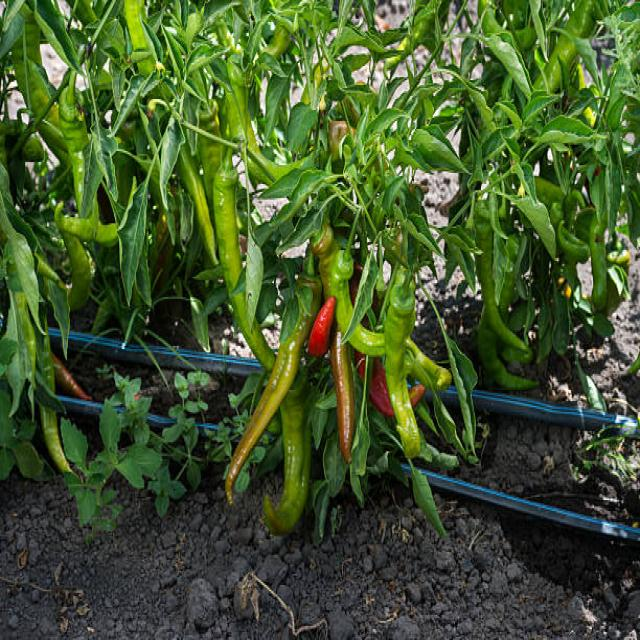Half-Ripe: (330, 329, 356, 462)
Ripe: (310, 296, 335, 354)
Unripe: (225, 275, 321, 503), (213, 171, 276, 371), (475, 214, 530, 355), (265, 381, 308, 536), (321, 256, 386, 352), (384, 285, 419, 456), (180, 157, 222, 270), (63, 233, 91, 310), (56, 215, 119, 245)
